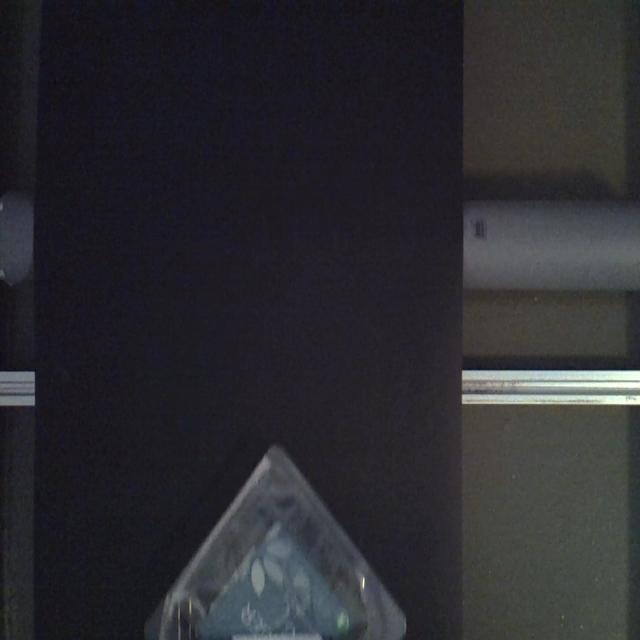mixed-plastics: (142, 440, 408, 638)
